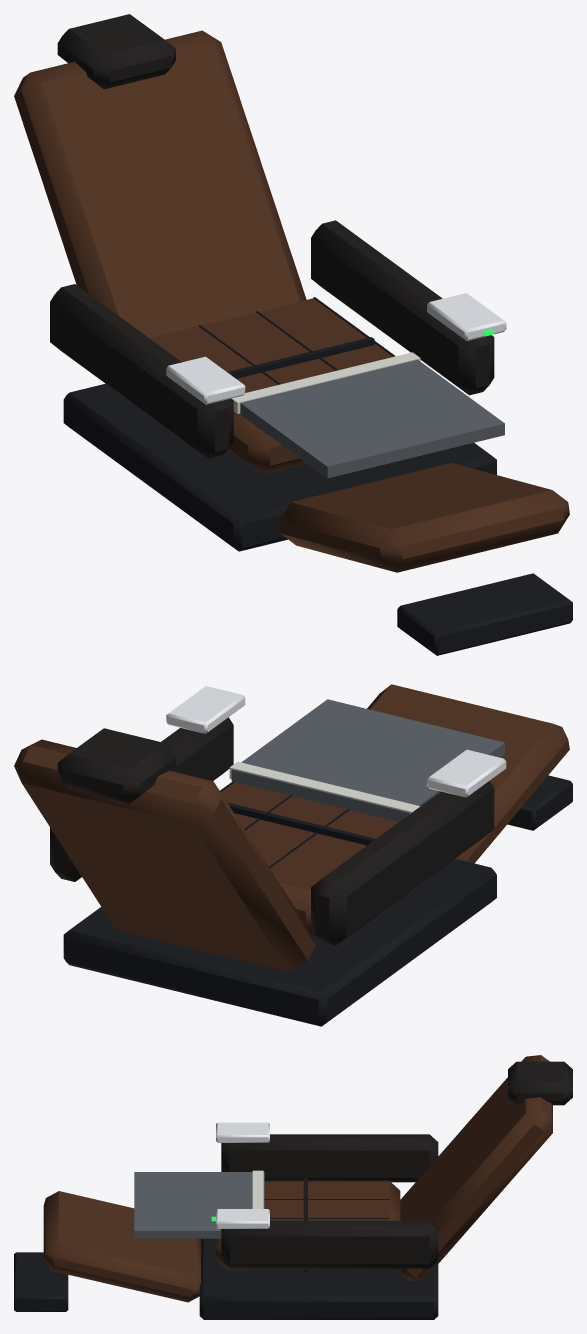
Rendered from bed_recliner_sleeper.glb.
3 views of the same model, one above another, from view 1: azimuth 30°, elevation 25°; view 2: azimuth 150°, elevation 25°; view 3: azimuth 270°, elevation 25° (orthographic). The views are drawn at different scales.
Visible parts, largest first — view 1: bed_recliner_sleeper; view 2: bed_recliner_sleeper; view 3: bed_recliner_sleeper.
Boxes of the visible parts, left/top/right/bottom form: bed_recliner_sleeper: left=14, top=14, right=572, bottom=655; bed_recliner_sleeper: left=14, top=684, right=572, bottom=1026; bed_recliner_sleeper: left=14, top=1055, right=572, bottom=1319.
Size of the model in its own units: 1.09 by 1.19 by 2.57.
